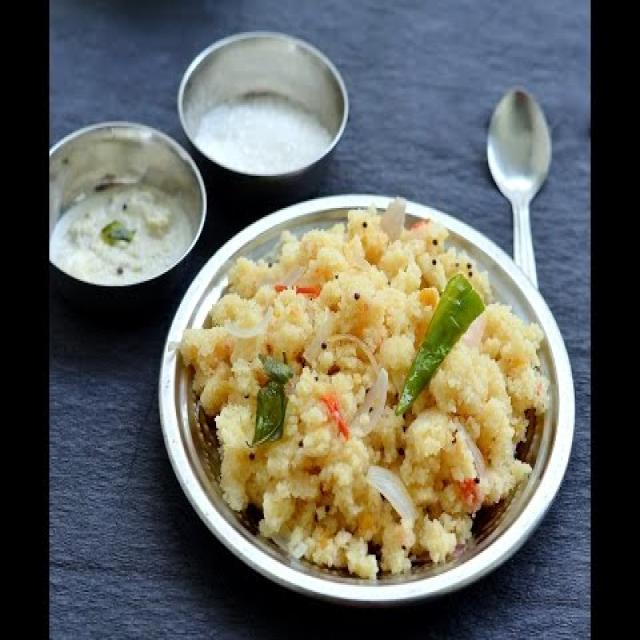upma: (172, 184, 560, 590)
